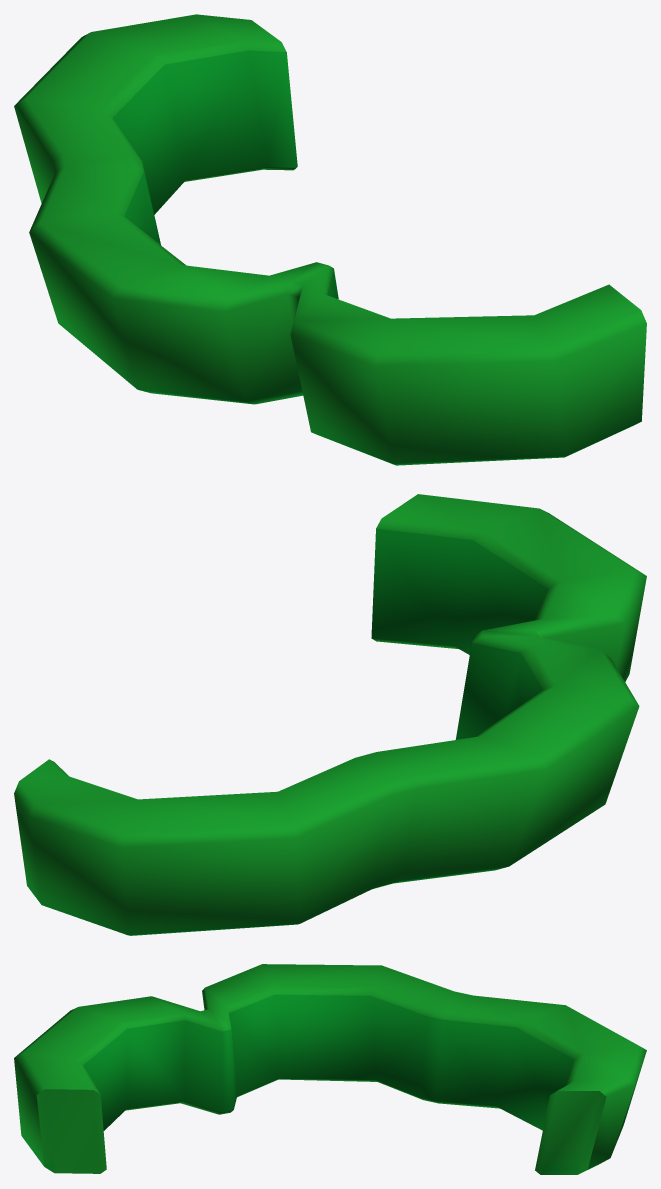
File: Paprika_green_slice_half.fbx
3 renders of one model, top to bottom at view 1: azimuth 30°, elevation 25°; view 2: azimuth 150°, elevation 25°; view 3: azimuth 270°, elevation 25°, orthographic. The views are drawn at different scales.
Visible parts, largest first — view 1: Paprika_green_slice_half; view 2: Paprika_green_slice_half; view 3: Paprika_green_slice_half.
Part boxes in pixels (x1,y1,x2,y2): Paprika_green_slice_half: [14, 14, 646, 465]; Paprika_green_slice_half: [14, 494, 646, 935]; Paprika_green_slice_half: [14, 964, 646, 1174].
Size of the model in its own units: 43.15 by 88.55 by 12.96.
